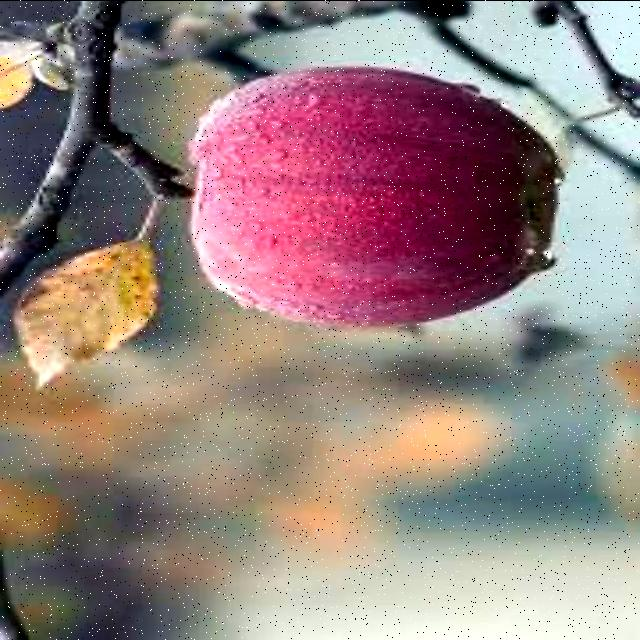HEALTHY: (136, 55, 588, 332)
